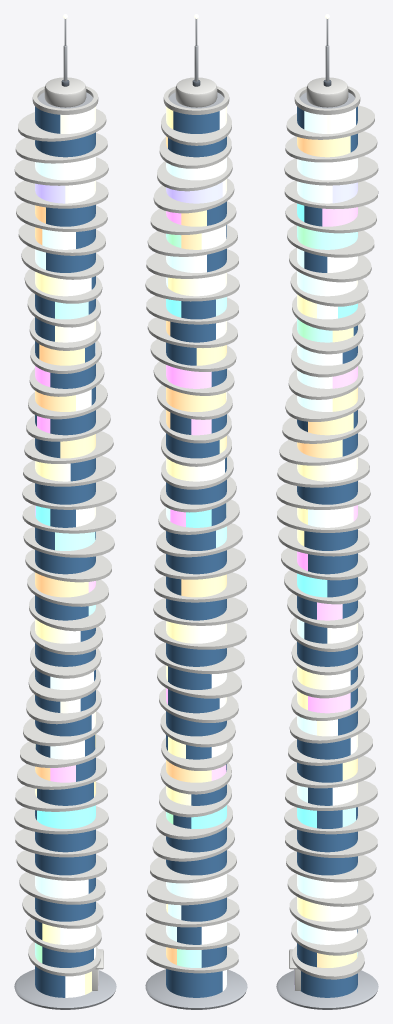
Rendered from arranha_ceu_espiral_varandas.glb.
The picture shows the model from 3 angles, left to right: view 1: azimuth 90°, elevation 25°; view 2: azimuth 150°, elevation 25°; view 3: azimuth 270°, elevation 25°; orthographic projection.
Visible parts, largest first — view 1: arranha_ceu_espiral_varandas; view 2: arranha_ceu_espiral_varandas; view 3: arranha_ceu_espiral_varandas.
Boxes of the visible parts, x1=… form: arranha_ceu_espiral_varandas: x1=14, y1=14, x2=116, y2=1009; arranha_ceu_espiral_varandas: x1=145, y1=14, x2=247, y2=1009; arranha_ceu_espiral_varandas: x1=276, y1=14, x2=378, y2=1009.
Size of the model in its own units: 12.8 by 135 by 12.8.
Materials: 10 (1 with a texture image).
